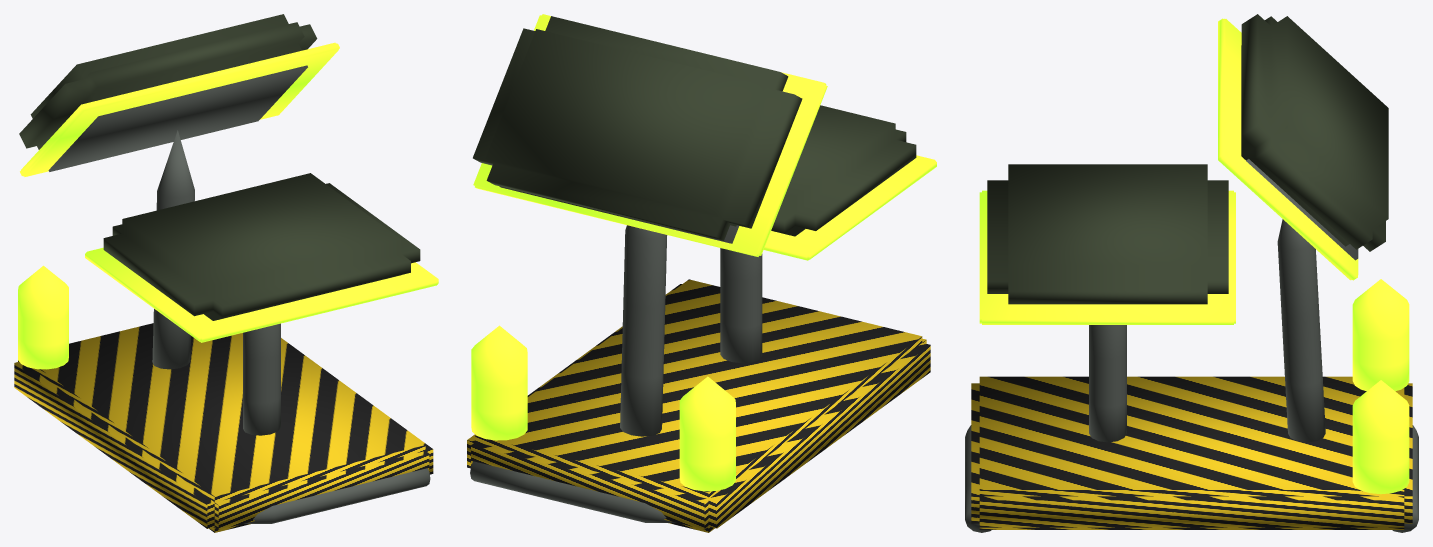
Rendered from ToxicBench.glb.
3 renders of one model, left to right at view 1: azimuth 30°, elevation 25°; view 2: azimuth 150°, elevation 25°; view 3: azimuth 270°, elevation 25°, orthographic. The views are drawn at different scales.
Visible parts, largest first — view 1: ToxicBench, ToxicBench_Glow; view 2: ToxicBench, ToxicBench_Glow; view 3: ToxicBench, ToxicBench_Glow.
Part boxes in pixels (x1=…): ToxicBench: x1=14, y1=14, x2=433, y2=532; ToxicBench_Glow: x1=18, y1=42, x2=438, y2=369; ToxicBench: x1=467, y1=16, x2=930, y2=532; ToxicBench_Glow: x1=471, y1=14, x2=936, y2=491; ToxicBench: x1=965, y1=14, x2=1418, y2=532; ToxicBench_Glow: x1=979, y1=18, x2=1409, y2=494.
Size of the model in its own units: 2.26 by 3.11 by 3.13.
2 materials, 1 textured.
